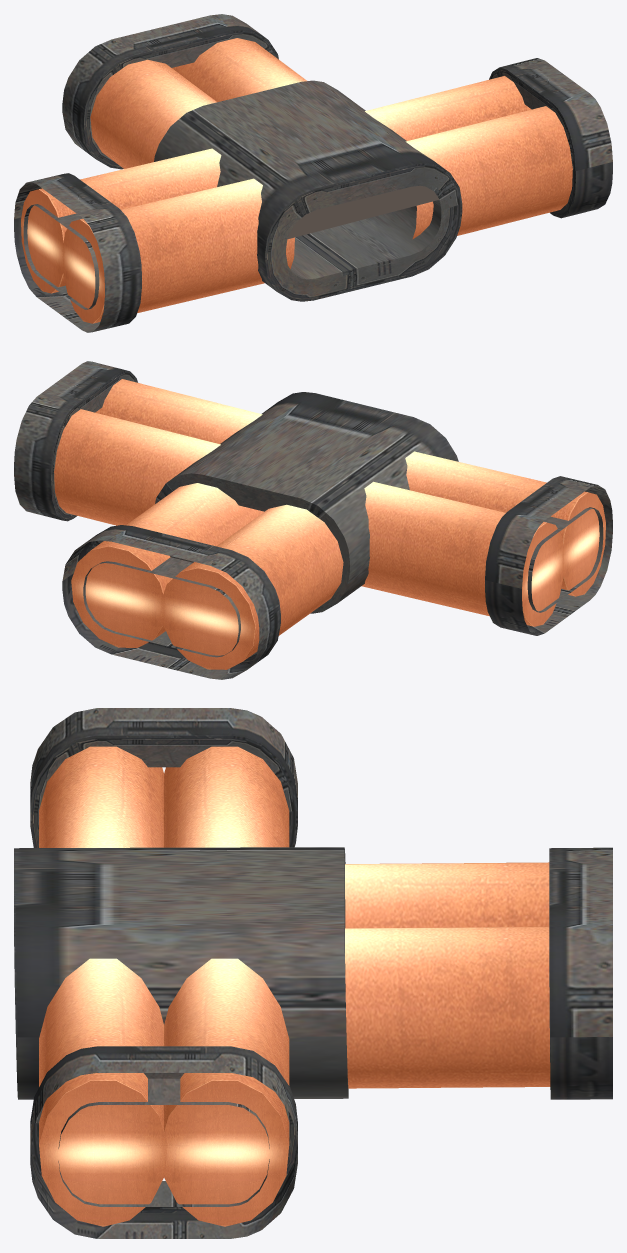
The model's file is heat-pipe-t-up.glb.
3 renders of one model, top to bottom at view 1: azimuth 30°, elevation 25°; view 2: azimuth 150°, elevation 25°; view 3: azimuth 270°, elevation 25°, orthographic. The views are drawn at different scales.
Visible parts, largest first — view 1: heat-pipe-t-up; view 2: heat-pipe-t-up; view 3: heat-pipe-t-up.
Part boxes in pixels (x1,y1,x2,y2): heat-pipe-t-up: (14, 14, 612, 332); heat-pipe-t-up: (14, 361, 612, 679); heat-pipe-t-up: (14, 708, 612, 1238).
Bounding box in the file's own units: 1 × 0.2136 × 0.6939.
2 materials, 2 textured.
